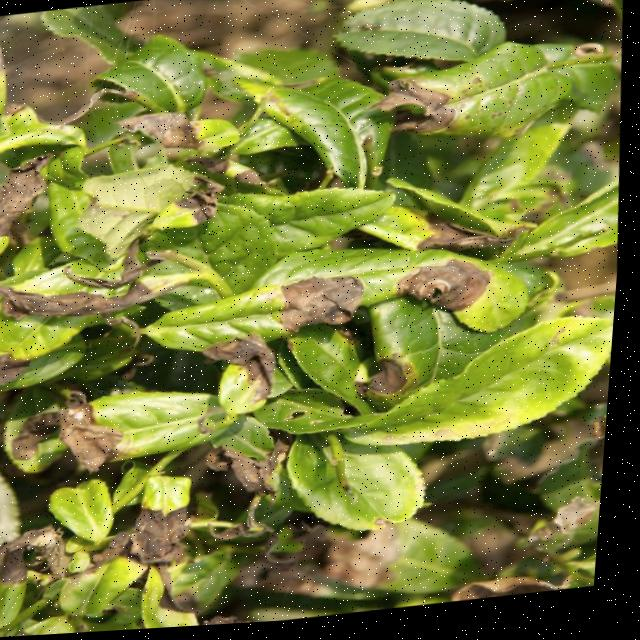Tea cloud leaf blight: (1, 262, 192, 331), (379, 71, 494, 160), (411, 201, 528, 270), (54, 397, 145, 474), (0, 149, 69, 249), (225, 327, 301, 416), (287, 264, 378, 331), (400, 261, 510, 316), (364, 366, 450, 425), (130, 110, 217, 167), (171, 178, 238, 227)
